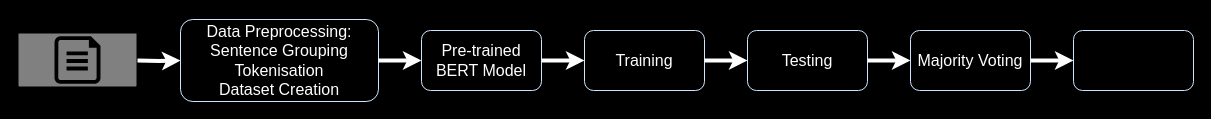
Image size: 1211x119. Some labels were removed from this diagram. The shapes that lost their labels are listed below. From the top down, each one's box as (x1, y1, x2, y2) in pixels, then its label:
(17, 17, 137, 87): Text
(1072, 30, 1194, 90): Prediction
